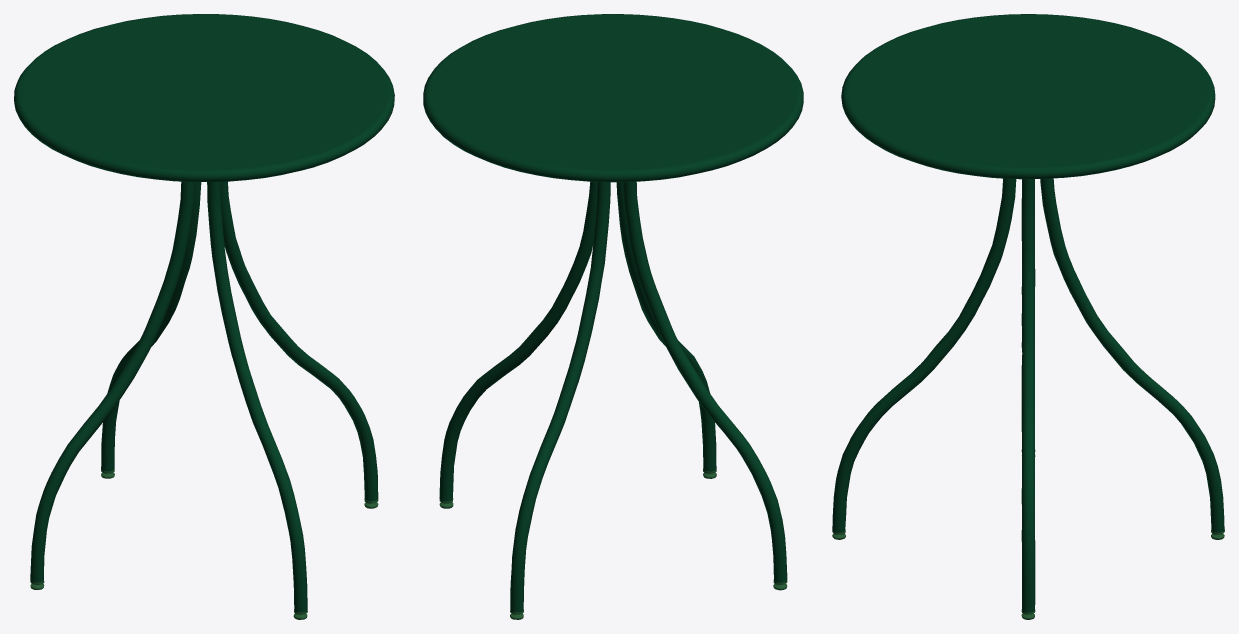
The model's file is tanebro_side_table_indoor_outdoor_dark_g.glb.
3 renders of one model, left to right at view 1: azimuth 30°, elevation 25°; view 2: azimuth 150°, elevation 25°; view 3: azimuth 270°, elevation 25°, orthographic.
Parts seen in each view (by area): view 1: ASY_ART_40578971_S01_NV01, ASY_LPT03_40578971_S01_NV01, ASY_LPT04_40578971_S01_NV01, ASY_LPT02_40578971_S01_NV01, ASY_LPT01_40578971_S01_NV01; view 2: ASY_ART_40578971_S01_NV01, ASY_LPT04_40578971_S01_NV01, ASY_LPT01_40578971_S01_NV01, ASY_LPT02_40578971_S01_NV01, ASY_LPT03_40578971_S01_NV01; view 3: ASY_ART_40578971_S01_NV01, ASY_LPT02_40578971_S01_NV01, ASY_LPT01_40578971_S01_NV01, ASY_LPT03_40578971_S01_NV01.
Part boxes in pixels (box(x1,y1,x2,y2)): ASY_ART_40578971_S01_NV01: box(14, 14, 394, 181); ASY_LPT03_40578971_S01_NV01: box(207, 182, 307, 619); ASY_LPT04_40578971_S01_NV01: box(30, 181, 194, 589); ASY_LPT02_40578971_S01_NV01: box(220, 181, 378, 508); ASY_LPT01_40578971_S01_NV01: box(101, 182, 201, 478); ASY_ART_40578971_S01_NV01: box(423, 14, 803, 182); ASY_LPT04_40578971_S01_NV01: box(623, 181, 787, 590); ASY_LPT01_40578971_S01_NV01: box(510, 182, 610, 619); ASY_LPT02_40578971_S01_NV01: box(439, 181, 597, 508); ASY_LPT03_40578971_S01_NV01: box(616, 182, 716, 478); ASY_ART_40578971_S01_NV01: box(841, 14, 1215, 179); ASY_LPT02_40578971_S01_NV01: box(1021, 179, 1035, 619); ASY_LPT01_40578971_S01_NV01: box(1040, 178, 1224, 539); ASY_LPT03_40578971_S01_NV01: box(832, 178, 1016, 539).
Bounding box in the file's own units: 0.4824 × 0.6052 × 0.4826.
5 materials, 5 textured.
